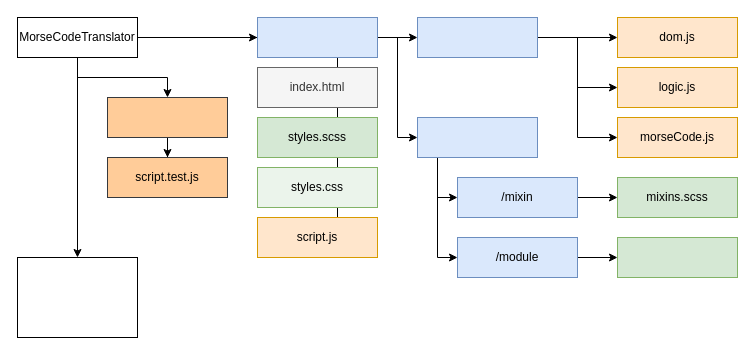
Some shapes in this 755 by 355 pixel diagram are drawn without their labels. The centre of each missing label's shape, as x and y in pixels:
/assets: (317,37)
/scripts: (477,37)
/styles: (477,137)
_theme.scss: (677,257)
jest.config.js: (167,117)
required files and configs: (77,297)
